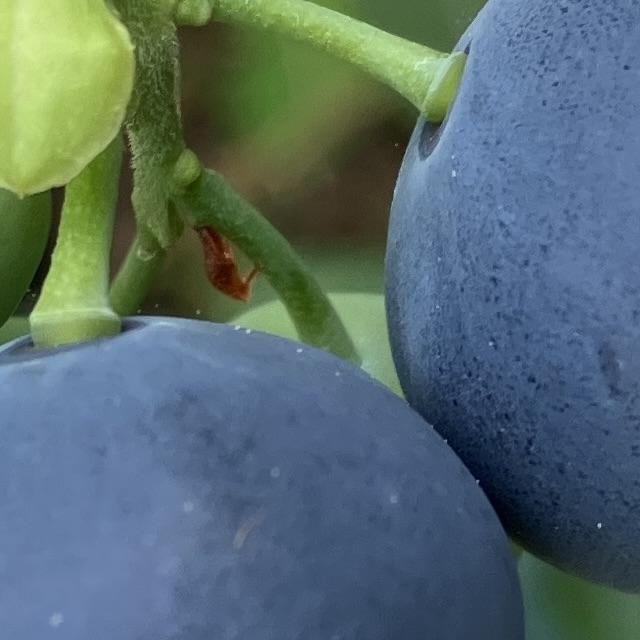Blueberries: (0, 310, 525, 640), (379, 0, 640, 599)
